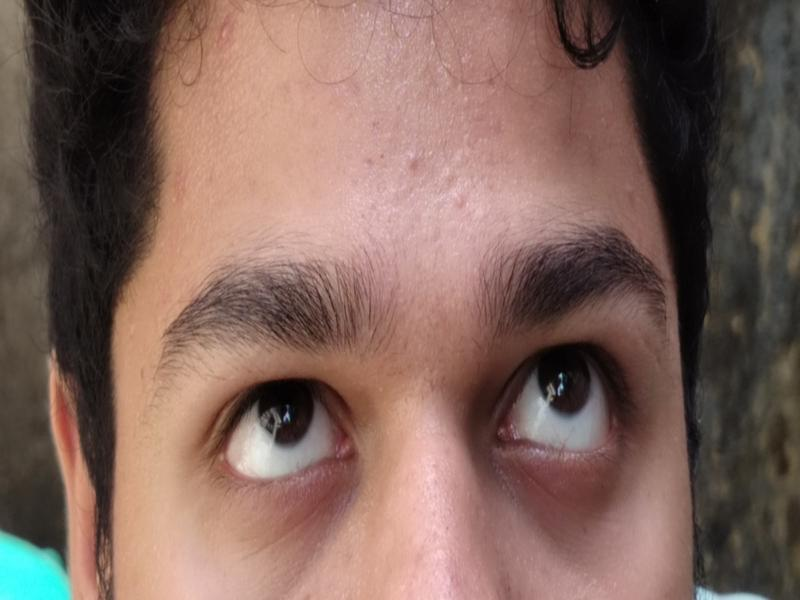EYE UP: (225, 394, 345, 474), (519, 355, 613, 443)
